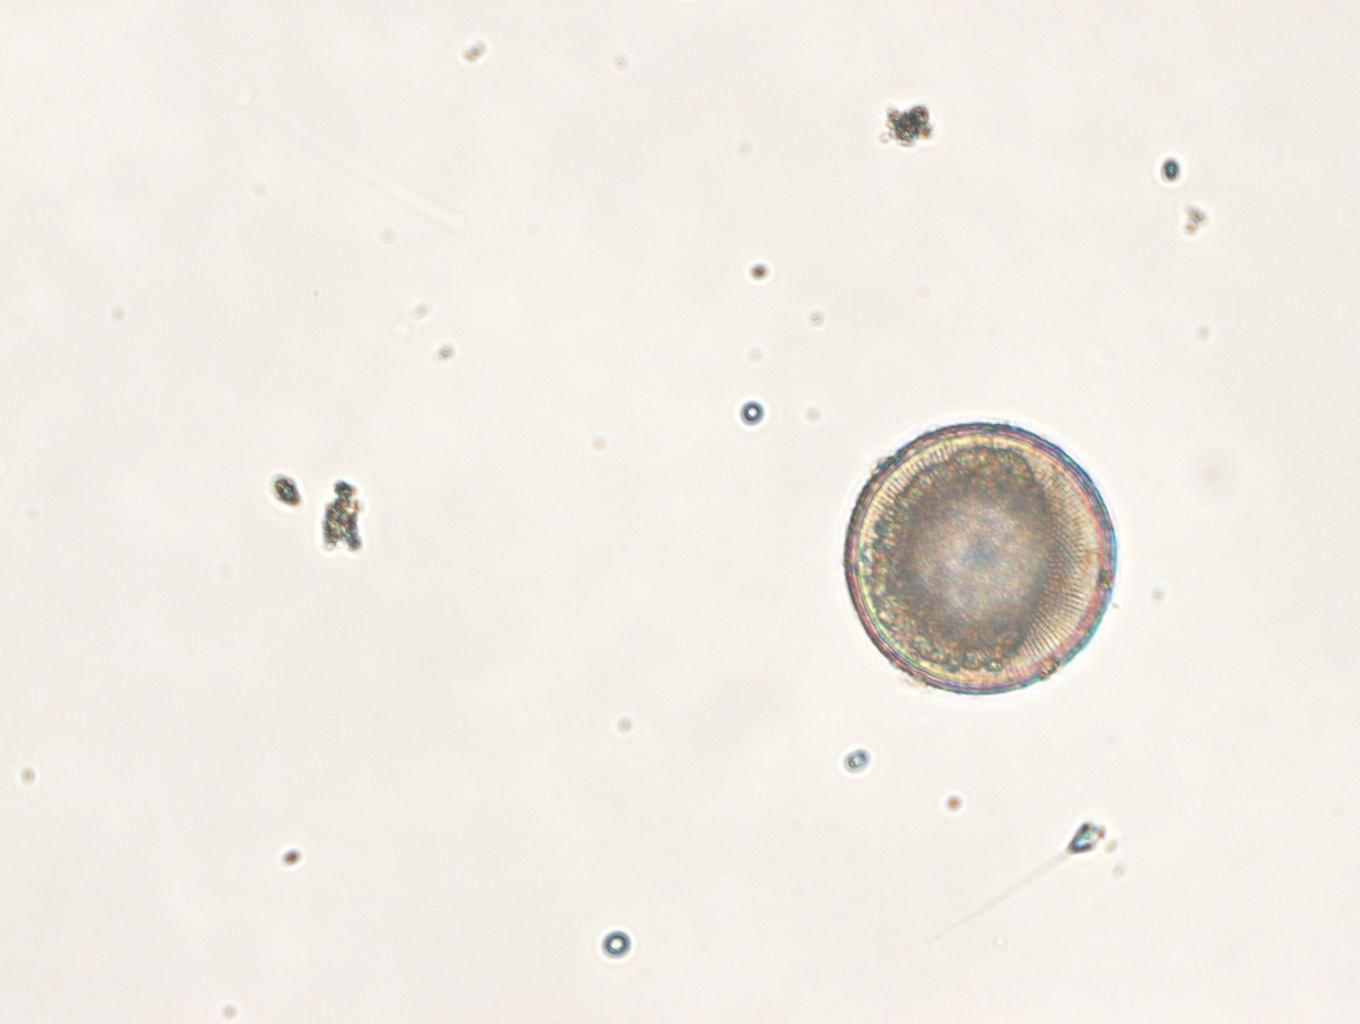coscinodiscus: (841, 418, 1118, 697)
